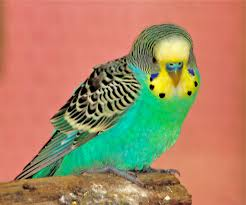budgie: (11, 23, 203, 183)
